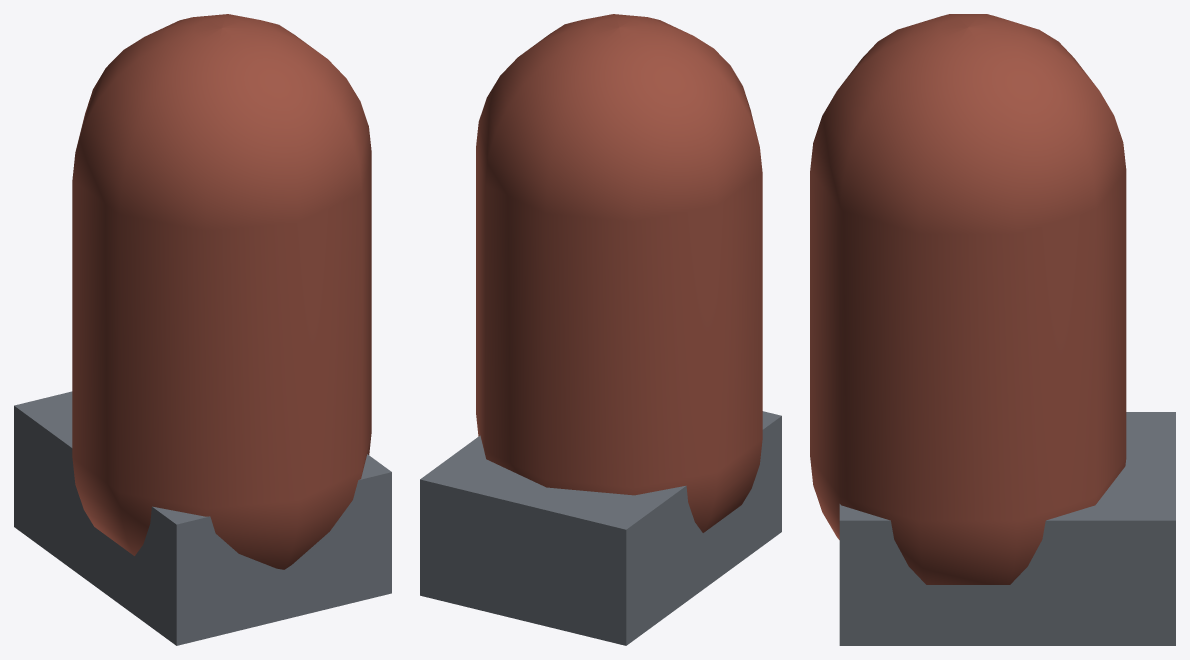
The model's file is boss_leg.glb.
3 renders of one model, left to right at view 1: azimuth 30°, elevation 25°; view 2: azimuth 150°, elevation 25°; view 3: azimuth 270°, elevation 25°, orthographic. The views are drawn at different scales.
Parts seen in each view (by area): view 1: boss_leg; view 2: boss_leg; view 3: boss_leg.
Part boxes in pixels (bbox=[...]): boss_leg: bbox=[14, 14, 391, 645]; boss_leg: bbox=[420, 14, 781, 645]; boss_leg: bbox=[810, 14, 1175, 645].
Size of the model in its own units: 0.3043 by 0.64 by 0.37.
